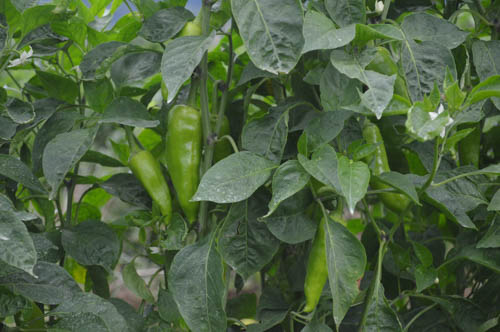ChiliPepper: (358, 126, 412, 215), (167, 102, 203, 221), (298, 219, 336, 310), (130, 152, 174, 216)
